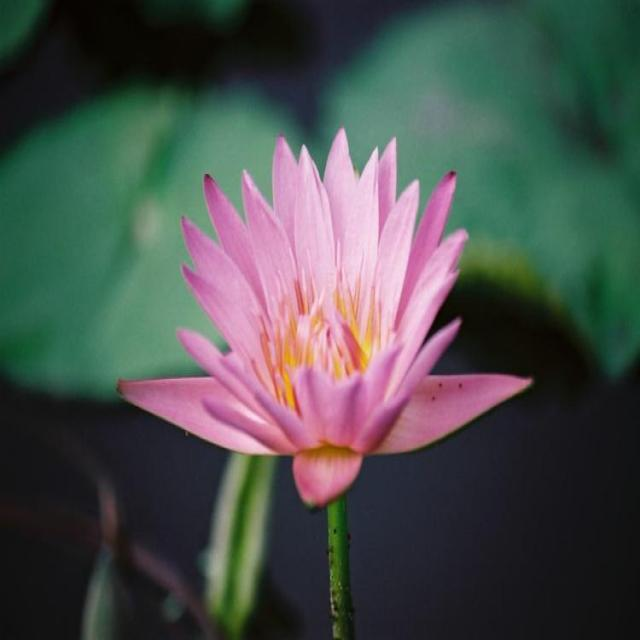rose: (83, 41, 600, 640)
